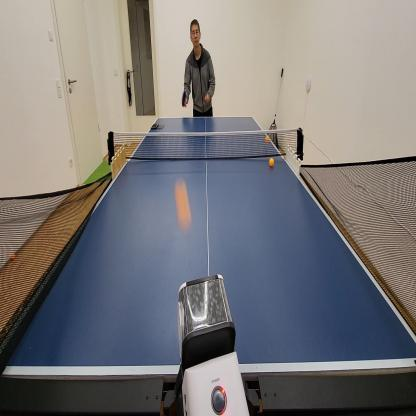Ball: (174, 177, 194, 234), (268, 156, 274, 168), (264, 134, 270, 145), (11, 251, 16, 261)
